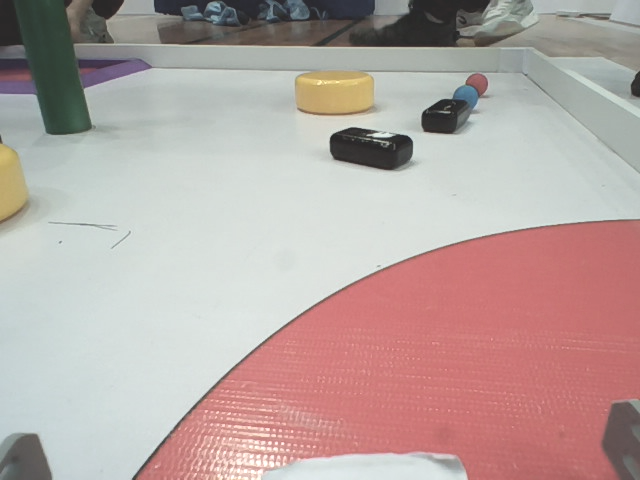black: (319, 127, 422, 181), (417, 99, 475, 142)
blue: (443, 84, 487, 115)
kuang: (1, 53, 166, 100)
red: (461, 71, 491, 98)
yellow: (291, 67, 385, 118), (1, 139, 45, 237)
zhuzi: (11, 1, 95, 143)
